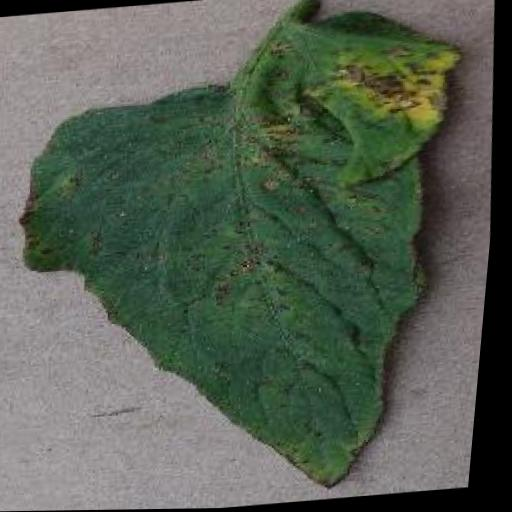Bacterial Spot: (0, 0, 502, 512)
